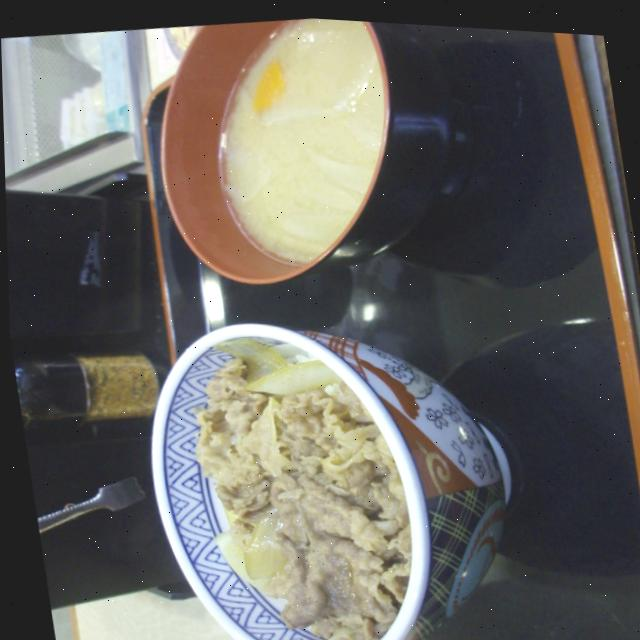蔬菜料理: (59, 3, 498, 346)
